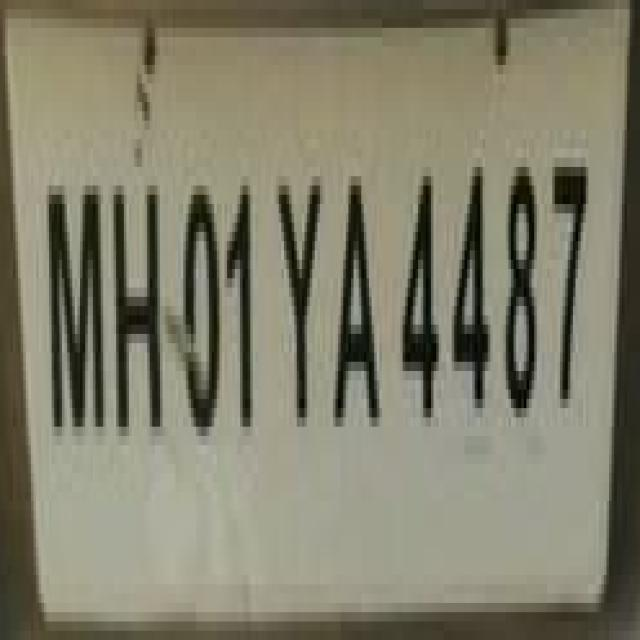license_plate: (26, 9, 637, 584)
